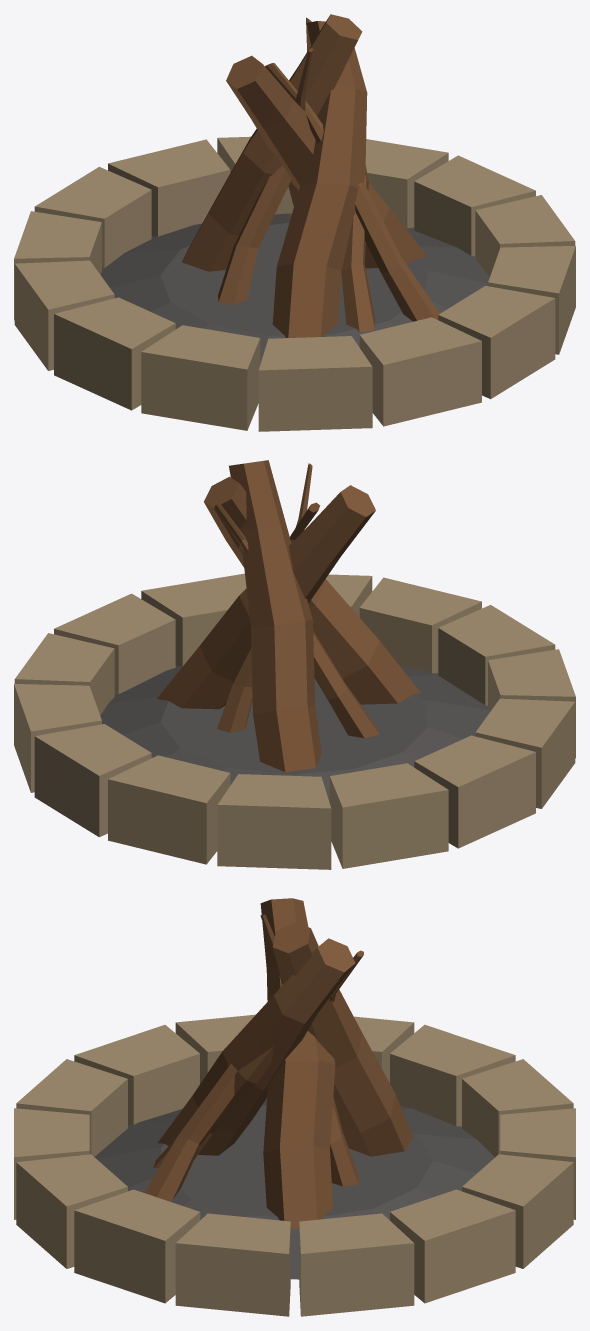
The model's file is Firepit.fbx.
3 renders of one model, top to bottom at view 1: azimuth 30°, elevation 25°; view 2: azimuth 150°, elevation 25°; view 3: azimuth 270°, elevation 25°, orthographic.
Parts seen in each view (by area): view 1: Firepit, Firepit_Wood; view 2: Firepit, Firepit_Wood; view 3: Firepit, Firepit_Wood.
Part boxes in pixels (x1=…): Firepit: x1=14, y1=136, x2=575, y2=431; Firepit_Wood: x1=182, y1=14, x2=439, y2=337; Firepit: x1=14, y1=573, x2=575, y2=869; Firepit_Wood: x1=157, y1=460, x2=420, y2=771; Firepit: x1=14, y1=1014, x2=575, y2=1316; Firepit_Wood: x1=144, y1=898, x2=413, y2=1228.
Size of the model in its own units: 339 by 192 by 332.
